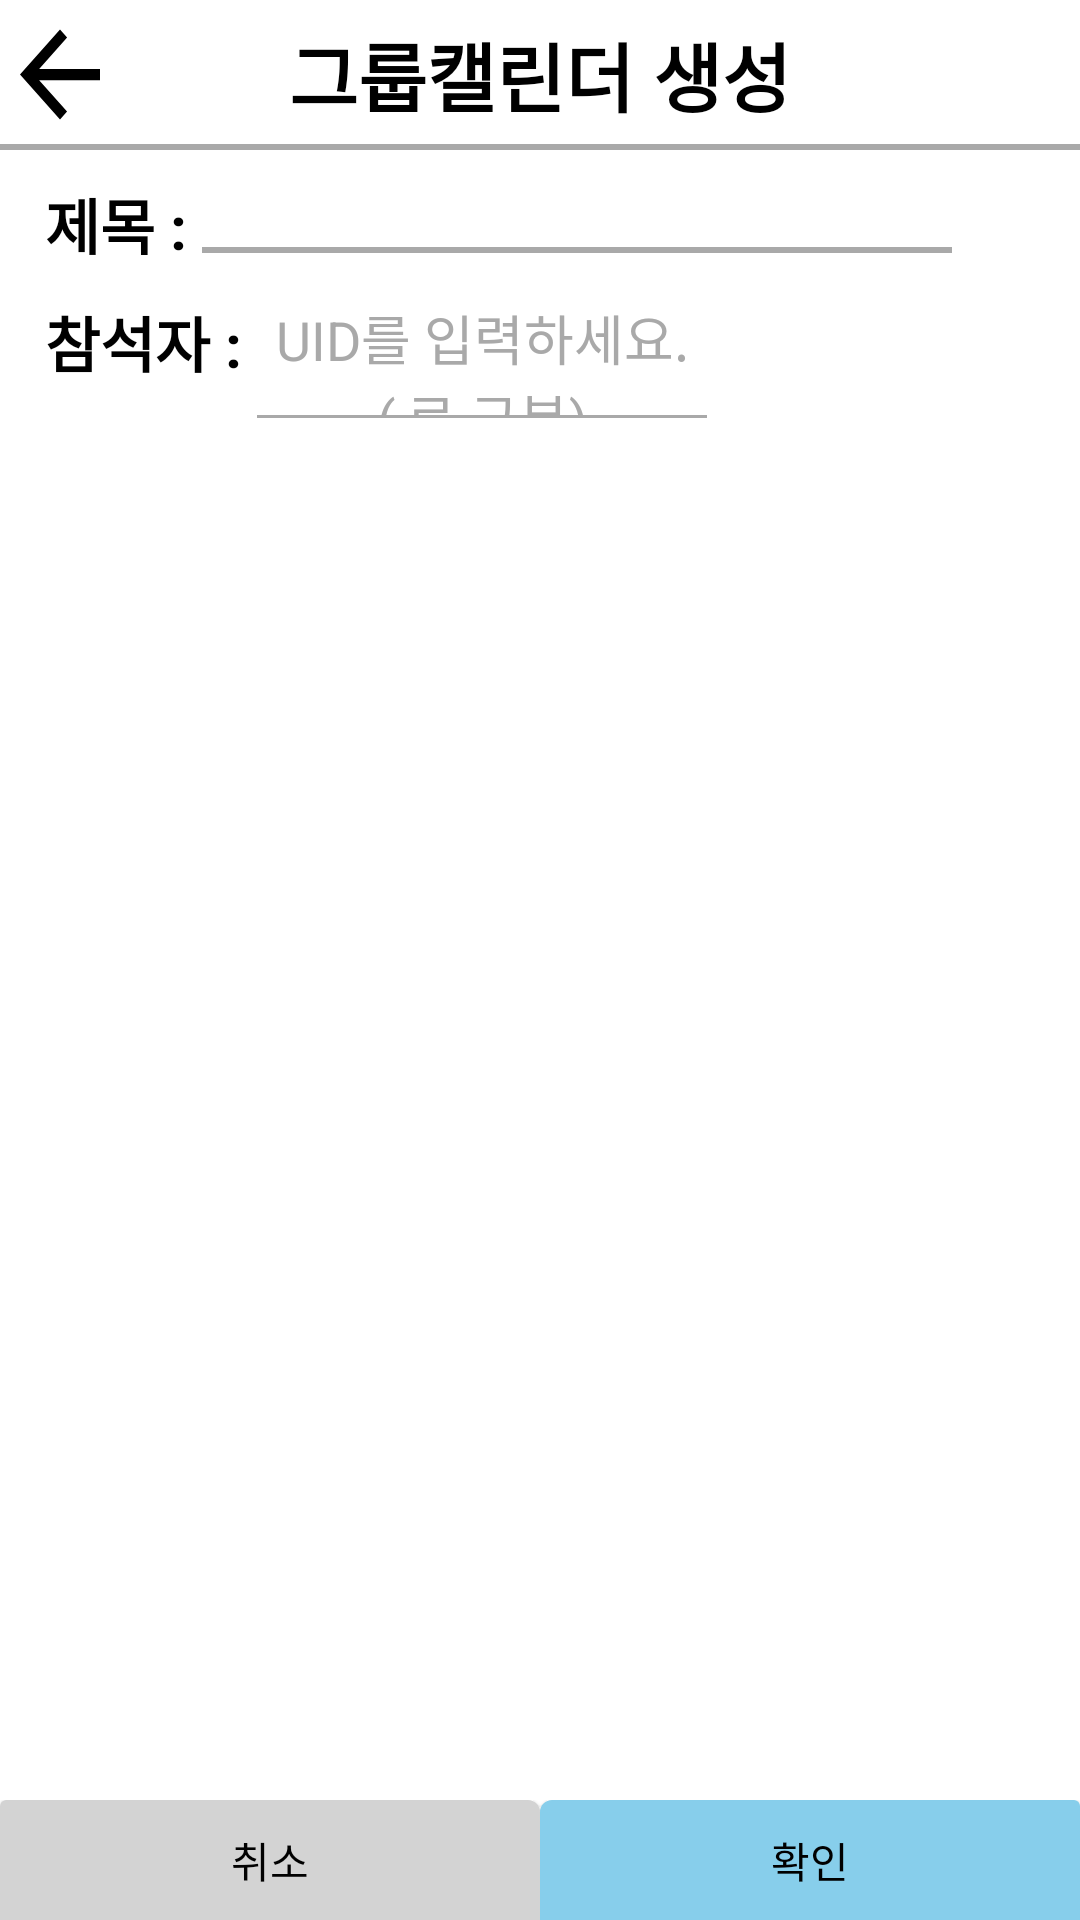

Where icons sit on this 1080px x 1920px app screen, as (x1, y1, x2, y2):
arrow back: (20, 29, 100, 120)
